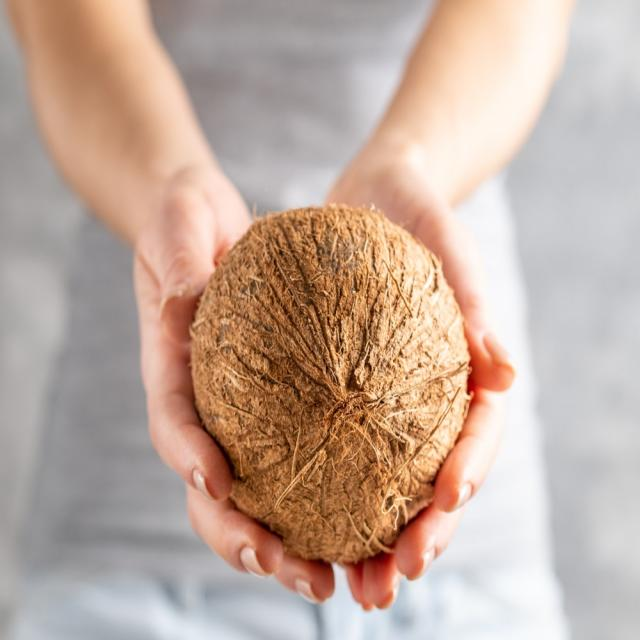coconut: (188, 194, 472, 564)
